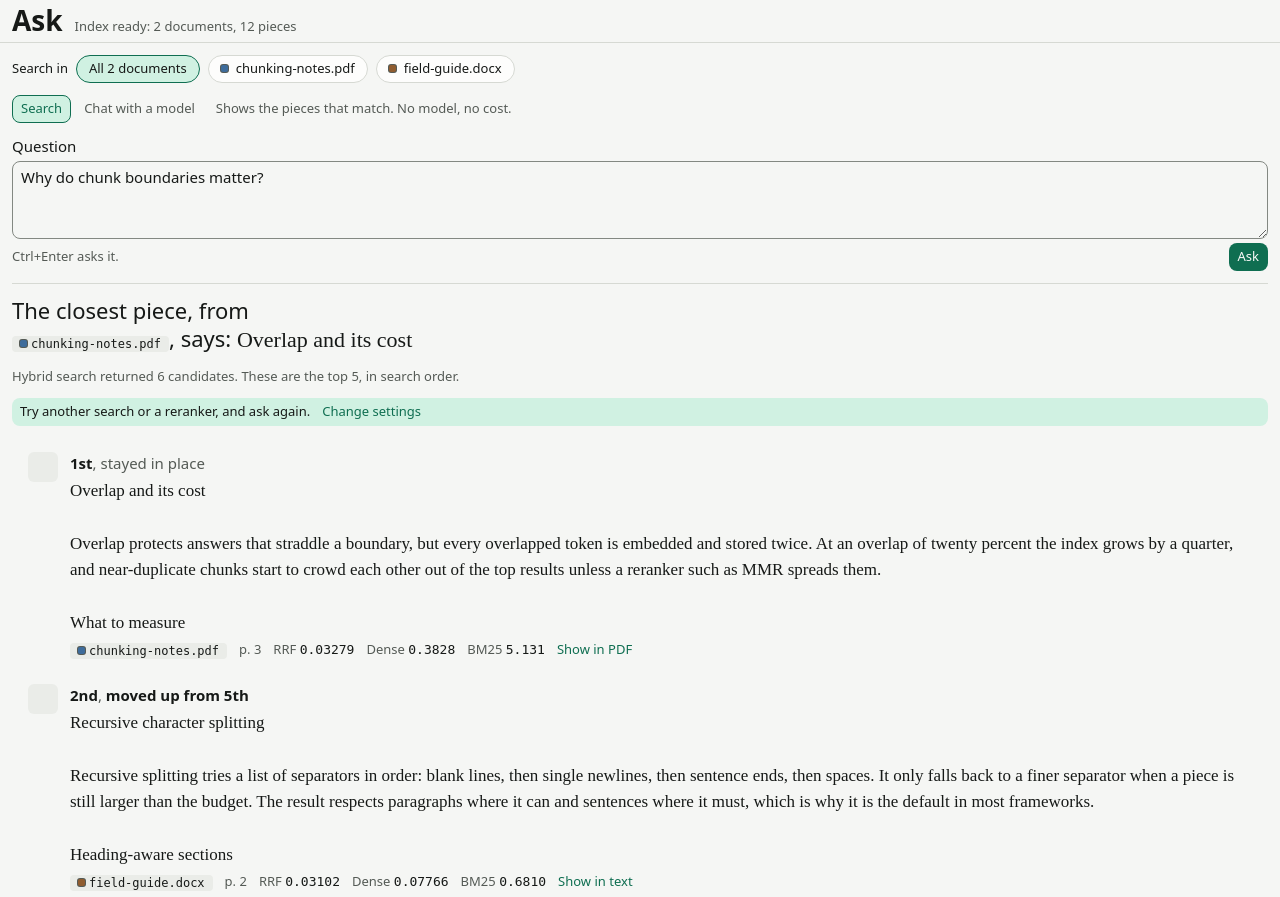
hits from several documents › open their own document: Show in text on a piece from the second file shows that file
Expected: the button "Show in PDF" is shown, top-left (557, 640), bottom-right (632, 660)
Click the button "Show in text".
click(595, 882)  # box top-left (558, 872), bottom-right (633, 892)
(page scrolled)
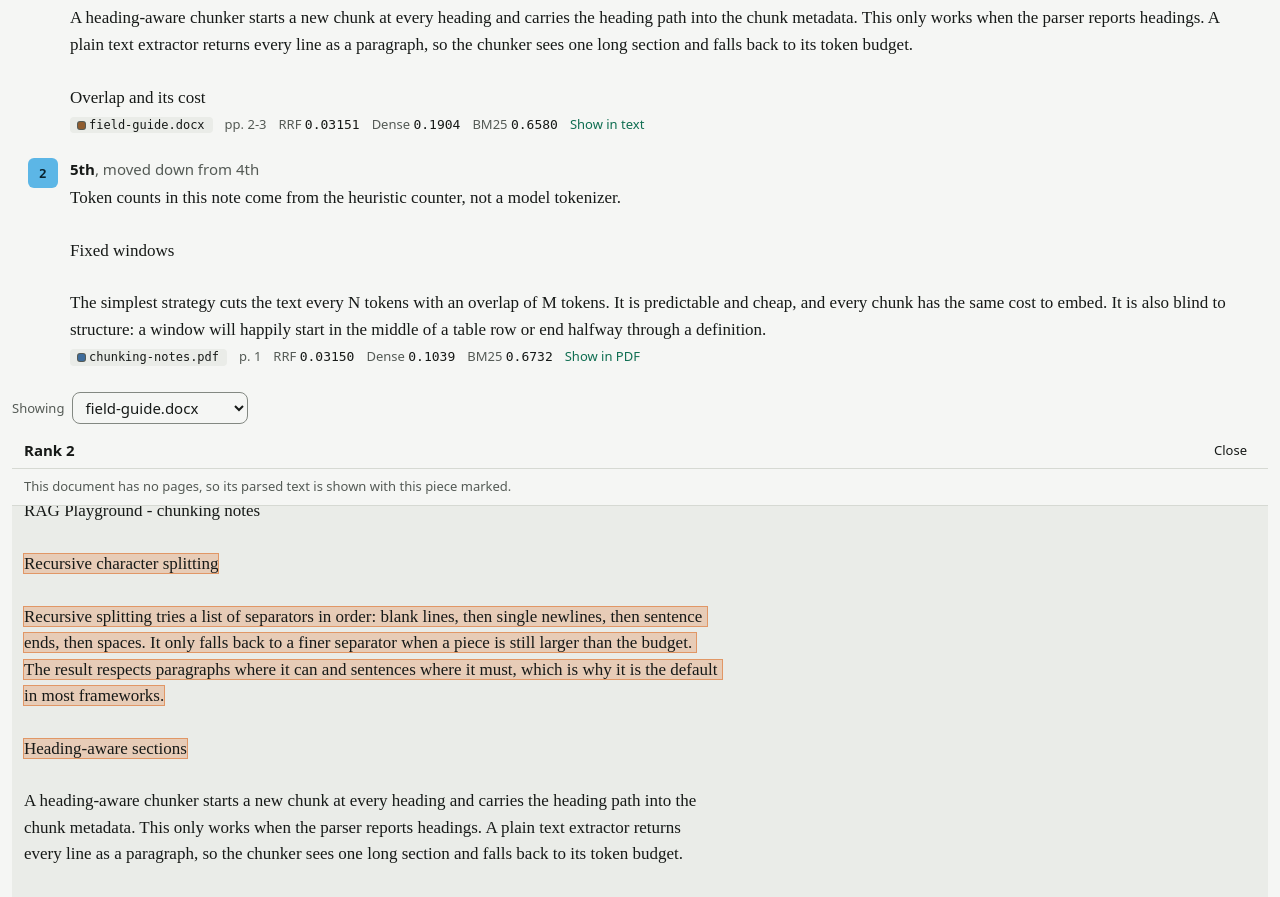
Expected: the text "Rank 2" is shown, top-left (24, 439), bottom-right (75, 462)
